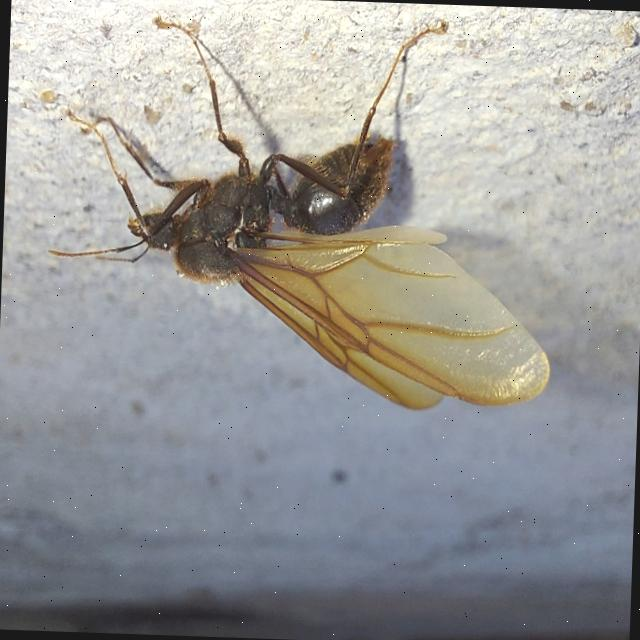Alive-Male-Alate: (42, 5, 562, 415)
